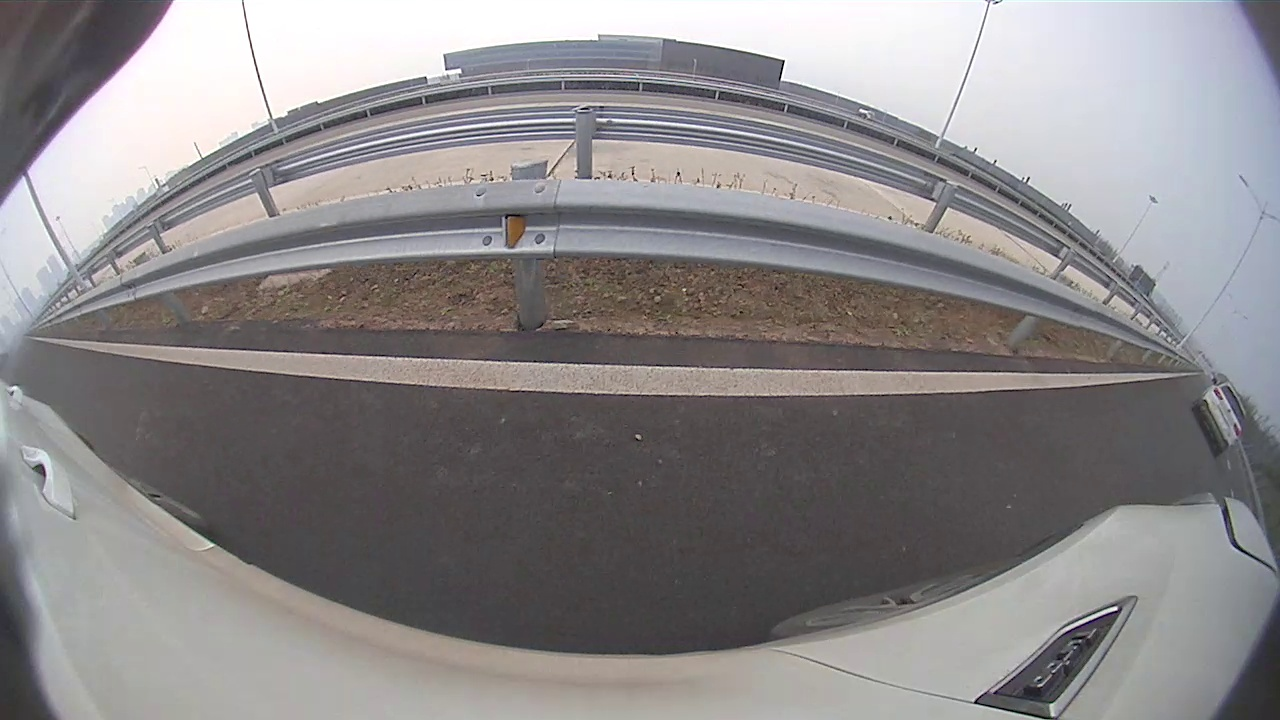car: (1188, 378, 1247, 458)
